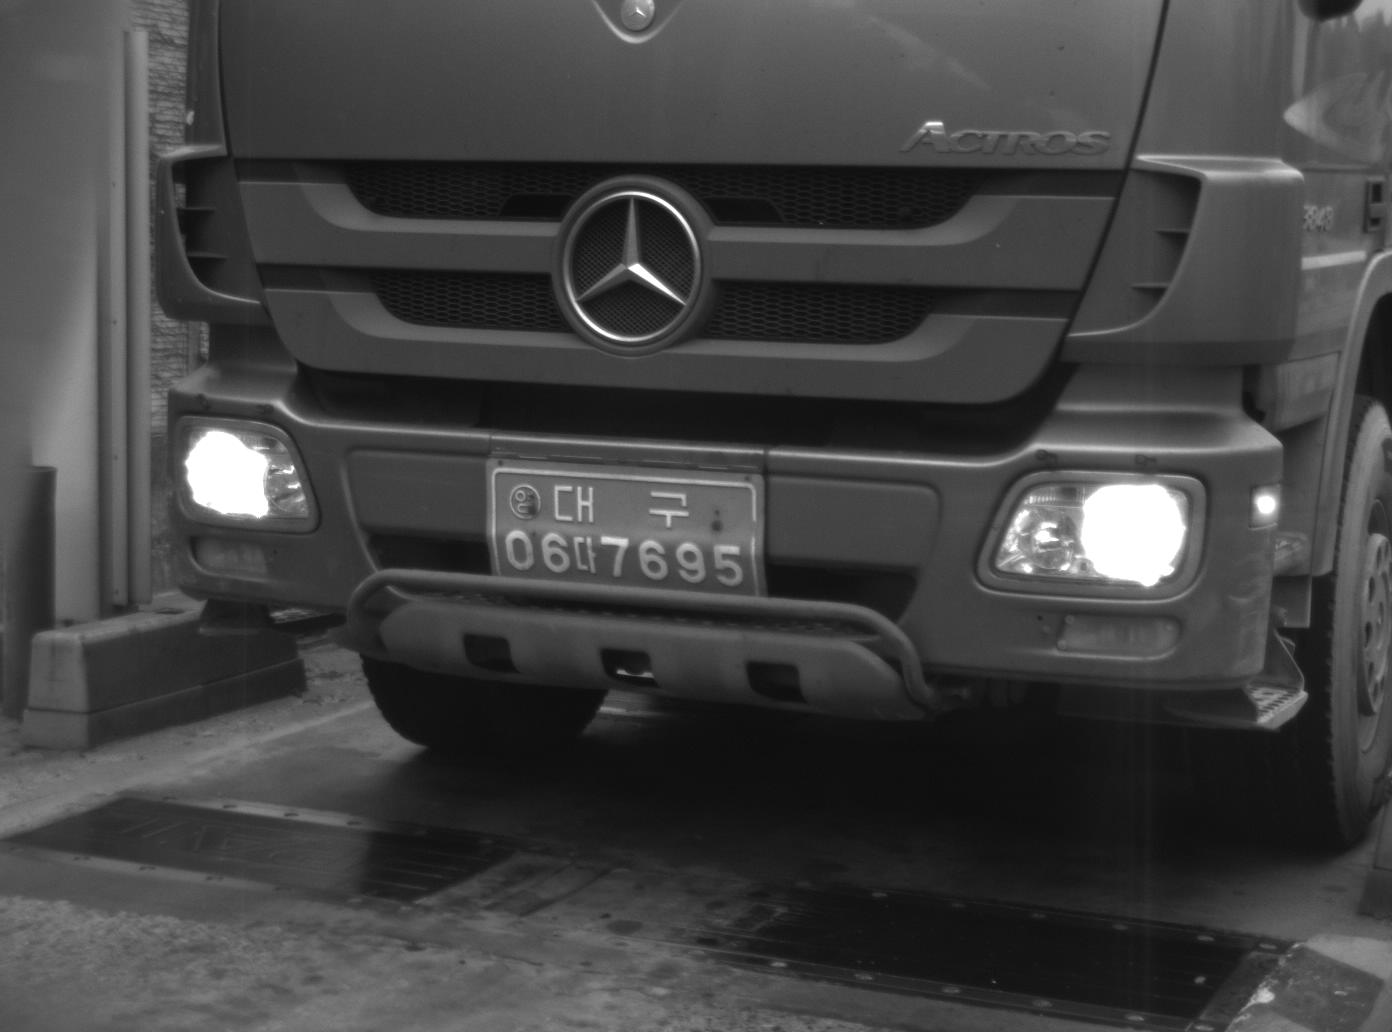car: (147, 1, 1392, 855)
plate: (484, 458, 763, 598)
